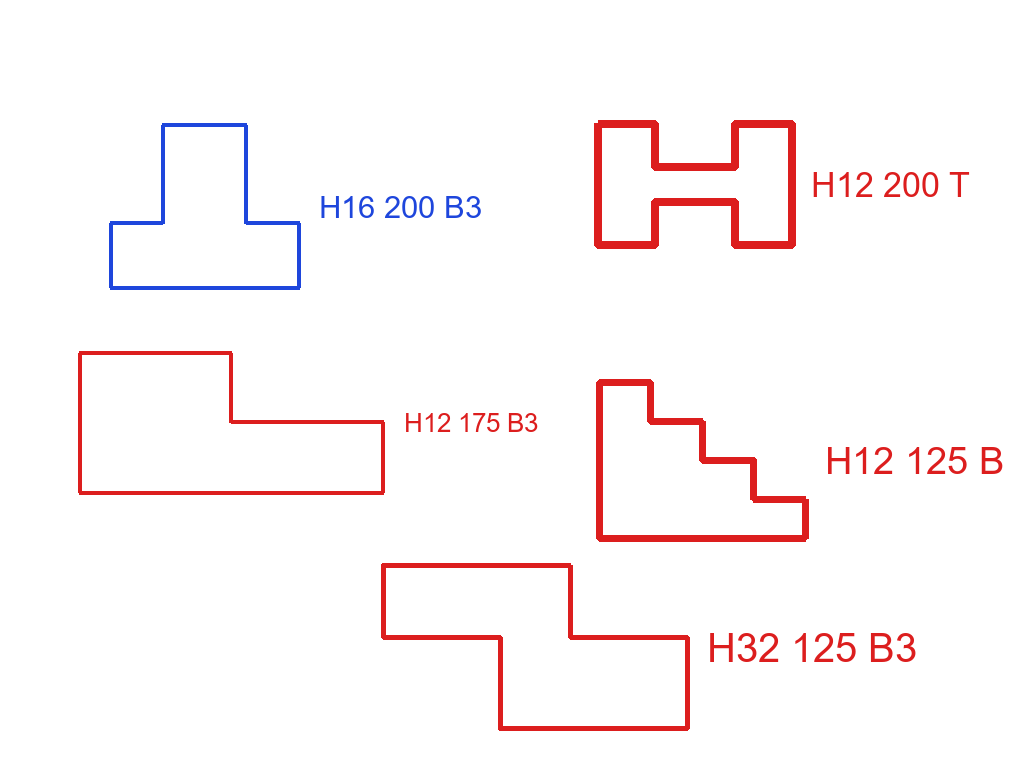shape: (379, 561, 692, 733), (75, 349, 388, 496), (594, 377, 811, 544), (107, 122, 303, 291), (593, 118, 797, 251)
text: (705, 631, 919, 664), (823, 445, 1006, 476), (809, 170, 972, 199), (317, 194, 484, 220), (402, 411, 540, 434)
